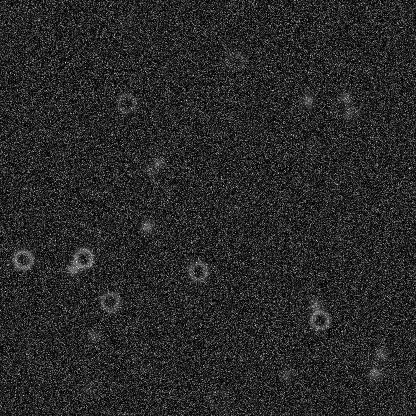Ring: (97, 289, 121, 313), (307, 307, 331, 331), (10, 247, 34, 271), (186, 259, 210, 283), (114, 90, 138, 114), (71, 246, 95, 270), (205, 387, 229, 411), (223, 48, 247, 72)
Spot: (372, 345, 388, 361), (150, 154, 166, 170), (80, 380, 96, 396), (299, 91, 315, 107), (278, 366, 294, 382), (64, 260, 80, 276), (308, 297, 324, 313), (337, 90, 353, 106), (85, 327, 101, 343), (366, 365, 382, 381), (141, 161, 157, 177), (341, 104, 357, 120), (138, 218, 154, 234)
